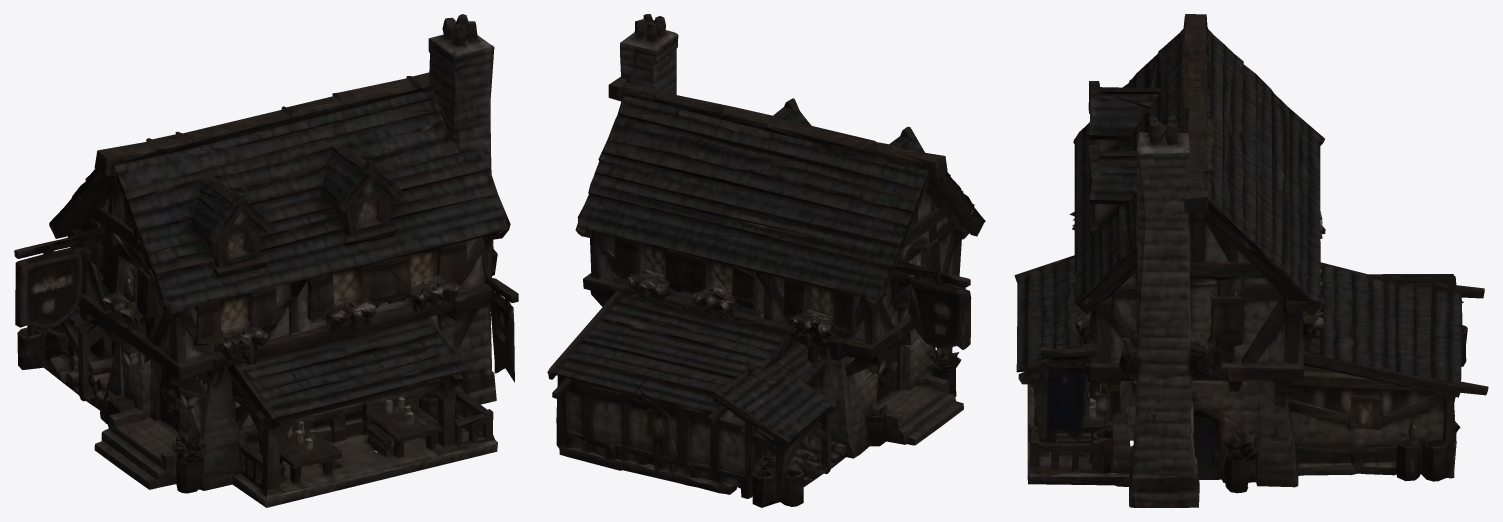
Rendered from war_tavern_gutted_01.glb.
3 views of the same model, side by side, from view 1: azimuth 30°, elevation 25°; view 2: azimuth 150°, elevation 25°; view 3: azimuth 270°, elevation 25° (orthographic). The views are drawn at different scales.
Visible parts, largest first — view 1: geometry_0; view 2: geometry_0; view 3: geometry_0.
Boxes of the visible parts, bbox=[...] form: geometry_0: bbox=[14, 14, 518, 507]; geometry_0: bbox=[547, 14, 985, 507]; geometry_0: bbox=[1014, 14, 1488, 507].
Size of the model in its own units: 0.9977 by 0.8407 by 0.9499.
1 material, 1 textured.
